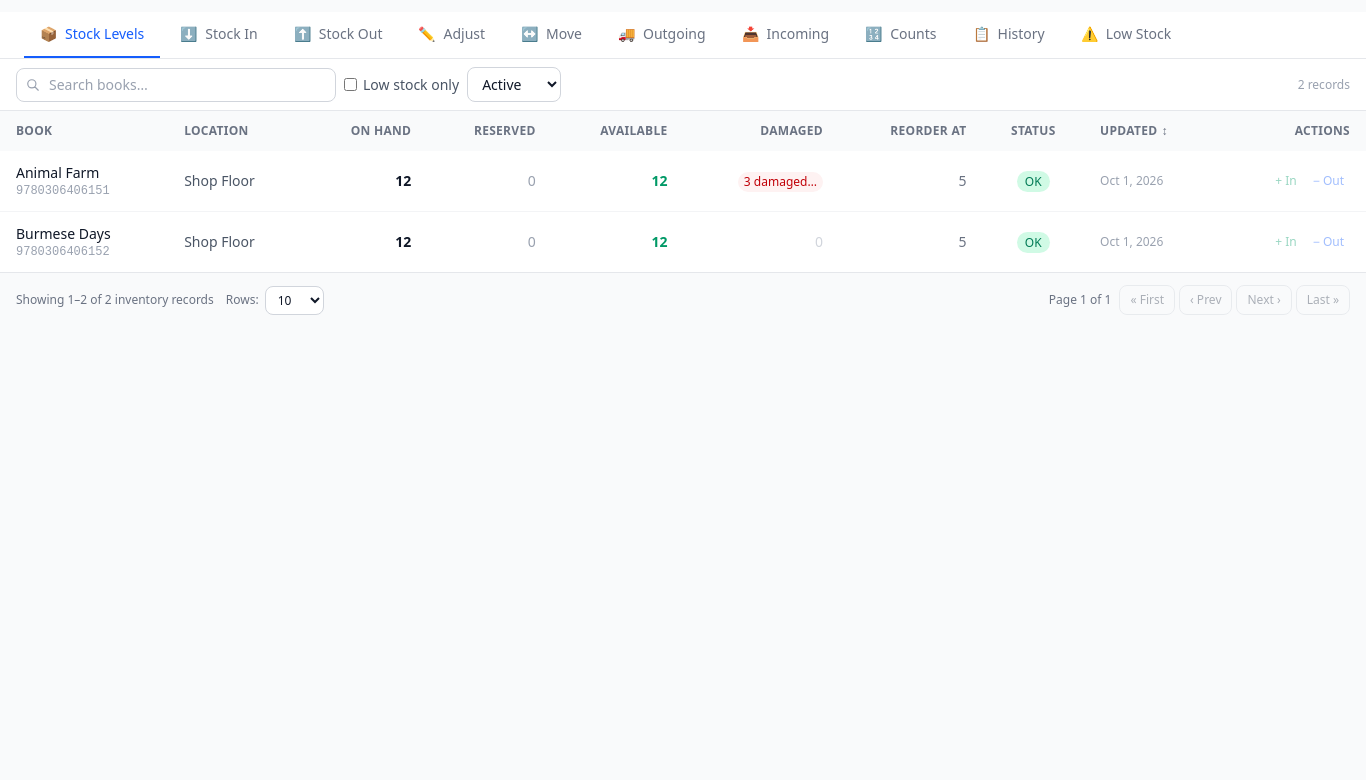
Test case: Inventory: who may change stock › offers a Stock Clerk a row's "+ In", which opens Stock In with that row chosen (was: hidden, and the row ignored)
Expected: the text "Animal Farm" is shown, [16,163,99,183]
Click the button titled "Stock In" in the row of "Burmese Days" at (1286, 242), box [1269,232,1303,252]
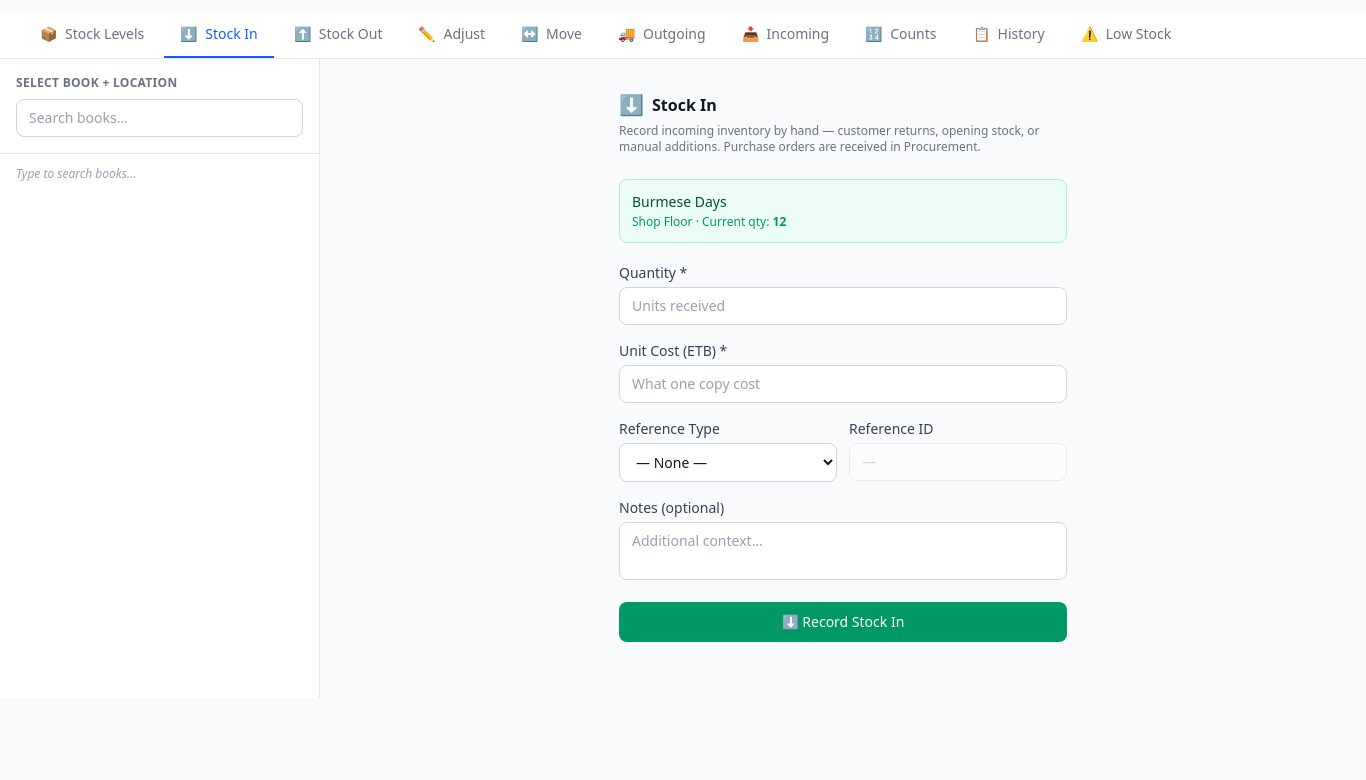
Expected: the text "Burmese Days" is shown, [632,192,727,211]
Expected: the text "Shop Floor · Current qty: 12" is shown, [632,213,786,230]
